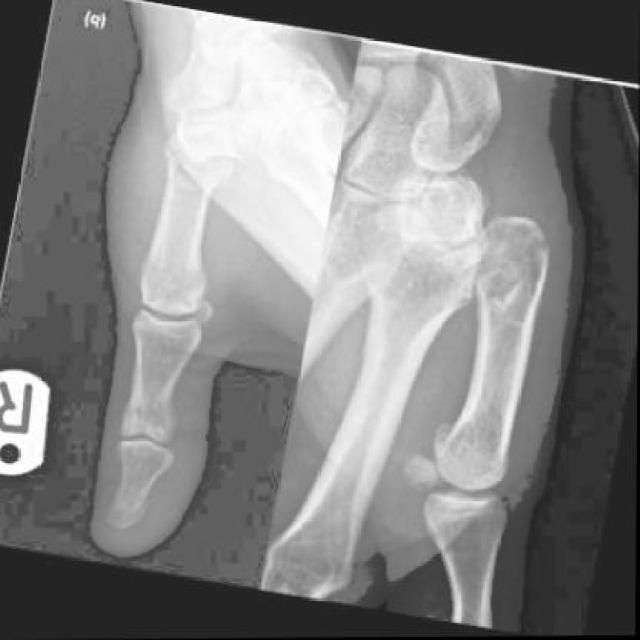Fracture: (449, 217, 562, 330)
